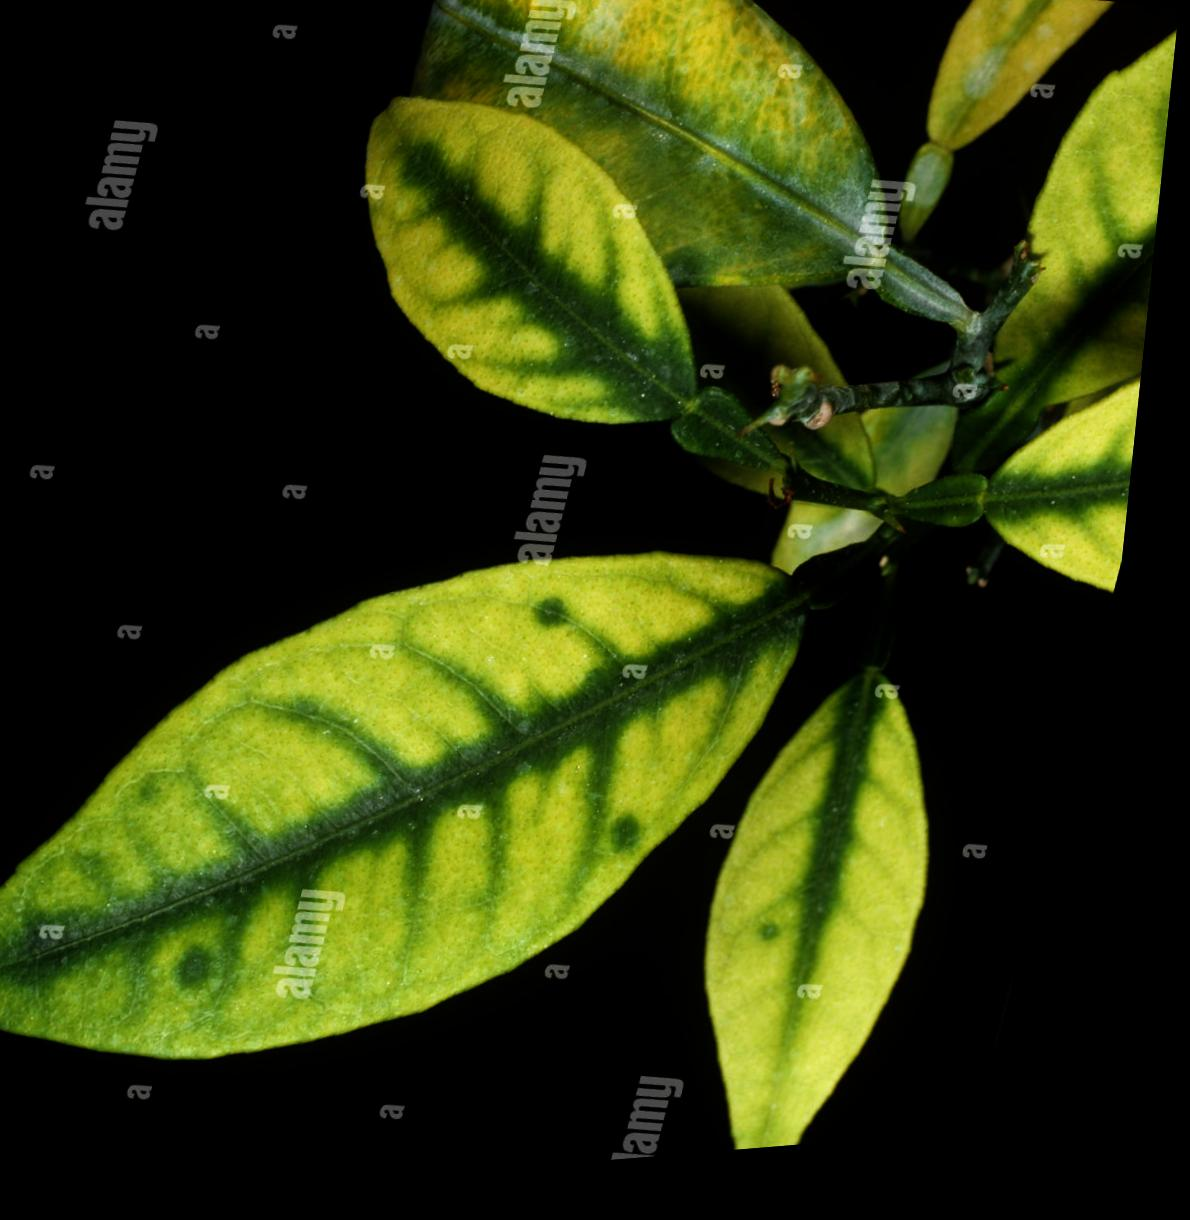Citrus Greening: (0, 446, 852, 1167), (304, 73, 770, 467), (659, 659, 1006, 1171)
